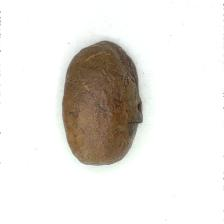NG: (125, 92, 145, 139)
